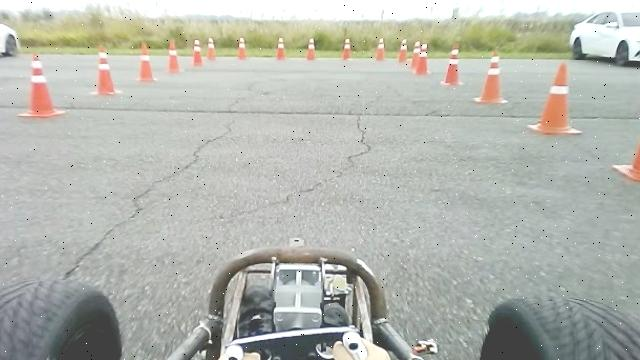red cone: (528, 60, 583, 134), (17, 51, 67, 117), (473, 51, 509, 103), (89, 46, 122, 95), (440, 43, 464, 86), (134, 44, 158, 84), (412, 43, 432, 75), (166, 39, 184, 73), (410, 41, 422, 67), (193, 39, 204, 66), (342, 38, 353, 60), (398, 38, 408, 62), (238, 37, 248, 59), (376, 37, 385, 60), (207, 37, 216, 60), (277, 37, 286, 60), (307, 38, 316, 60)
